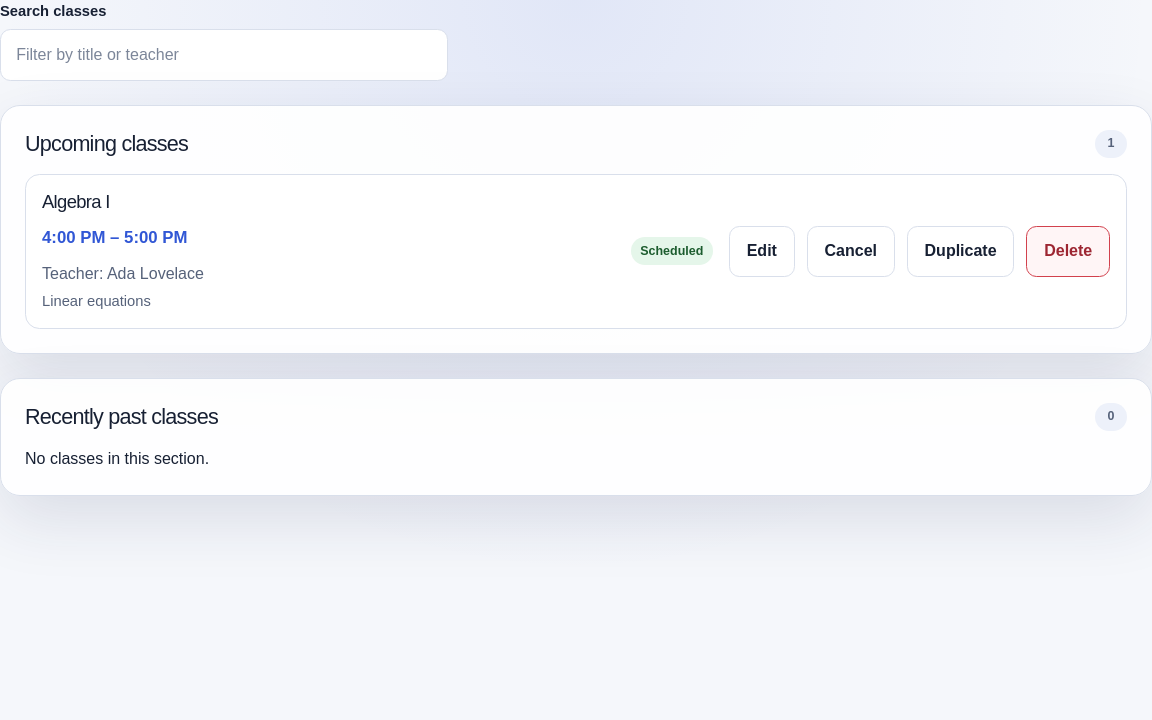
Test: AdminClassList › moves focus into the delete dialog, closes with Escape, and restores opener focus
Click the button with aria-label "Delete Algebra I": (1068, 251) [1026,226,1110,277]
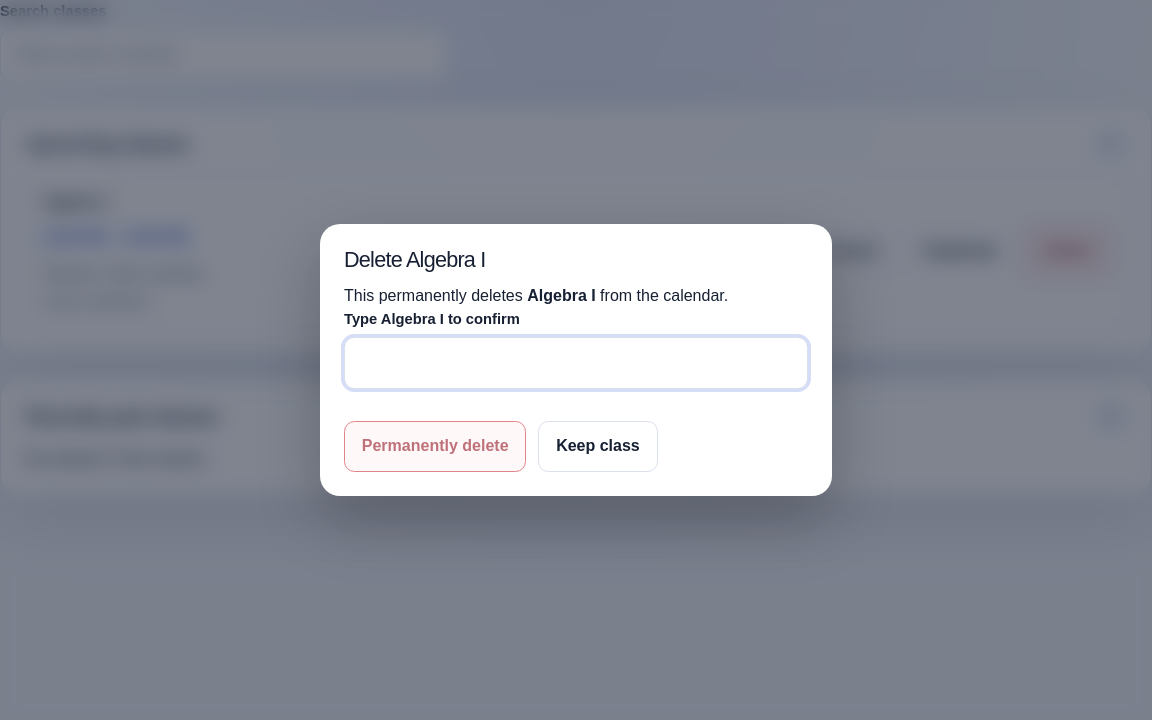
Press Escape
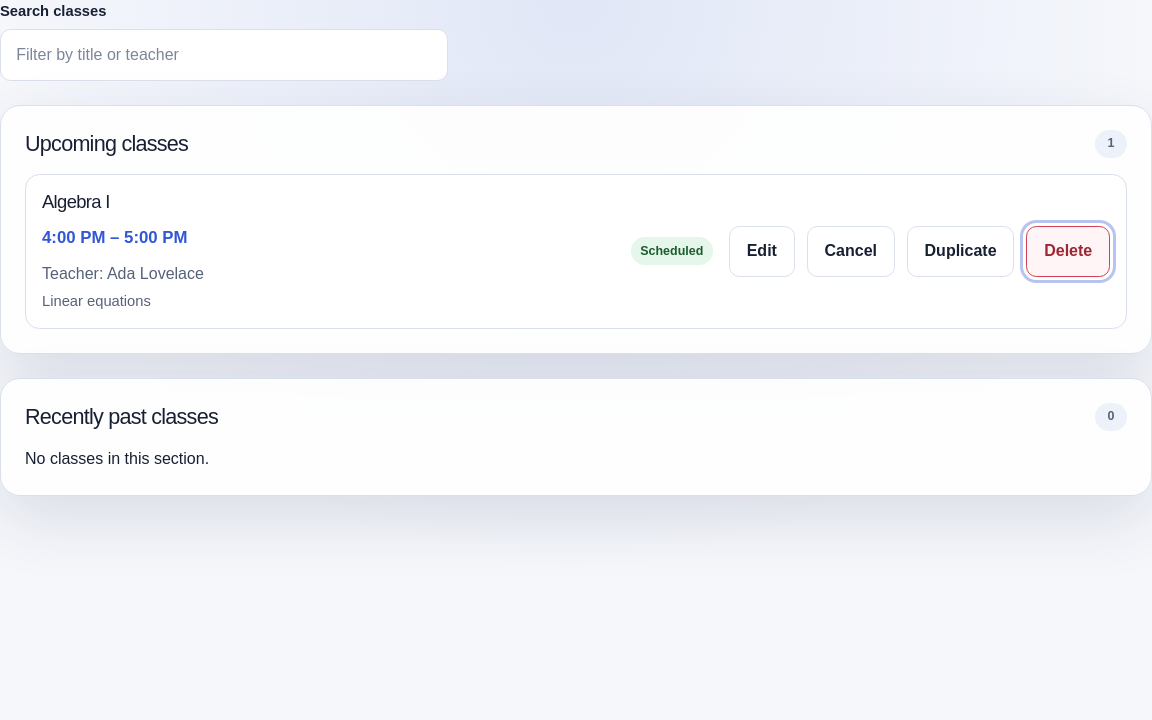
Expected: the heading "Delete Algebra I" is gone
